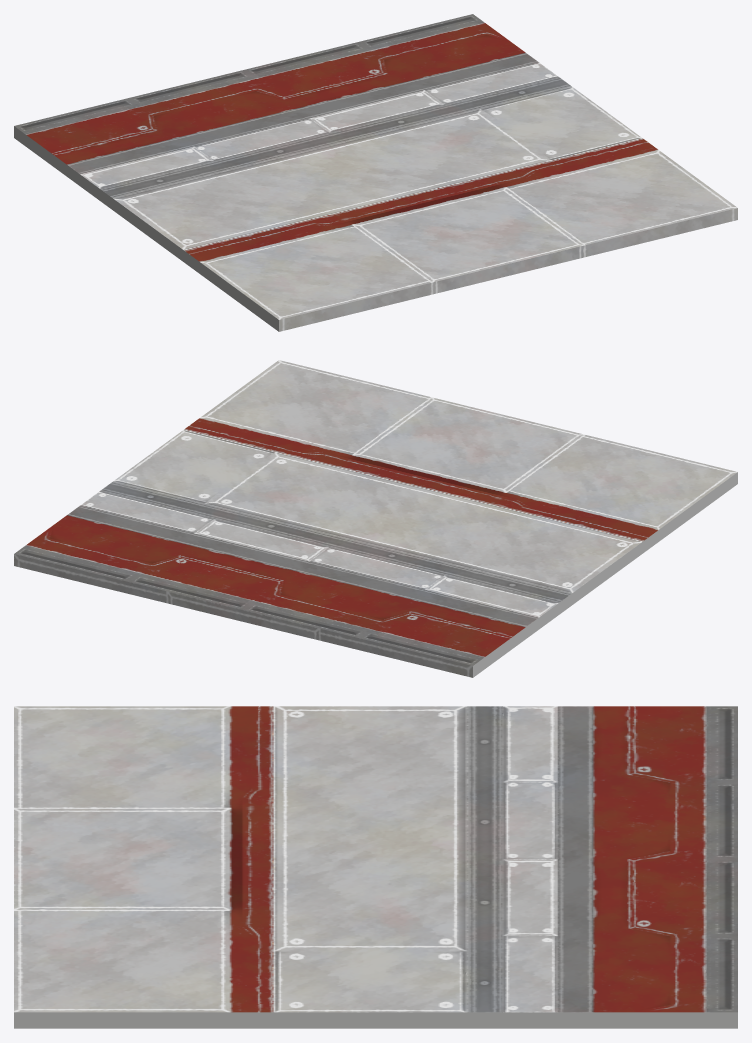
File: SM_Ceiling_Standard_A.fbx
3 renders of one model, top to bottom at view 1: azimuth 30°, elevation 25°; view 2: azimuth 150°, elevation 25°; view 3: azimuth 270°, elevation 25°, orthographic. The views are drawn at different scales.
Visible parts, largest first — view 1: SM_Ceiling_Standard_A; view 2: SM_Ceiling_Standard_A; view 3: SM_Ceiling_Standard_A.
Part boxes in pixels (left/top/right/bottom): SM_Ceiling_Standard_A: left=14, top=14, right=737, bottom=331; SM_Ceiling_Standard_A: left=14, top=360, right=737, bottom=677; SM_Ceiling_Standard_A: left=14, top=706, right=737, bottom=1028.
Size of the model in its own units: 200 by 5 by 200.
Materials: 1 (1 with a texture image).
